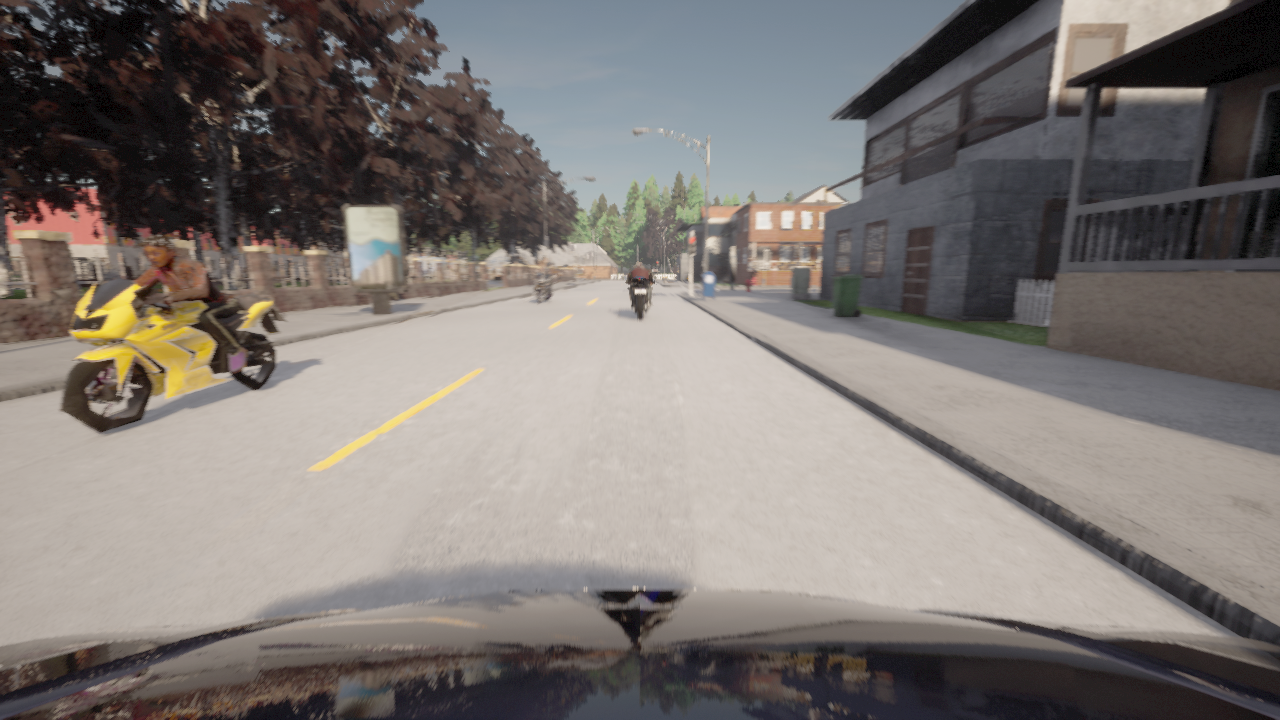cyclist: (0, 588, 1279, 719), (51, 277, 288, 432), (626, 273, 655, 318), (529, 273, 552, 303)
pedestrian: (391, 292, 399, 300)
